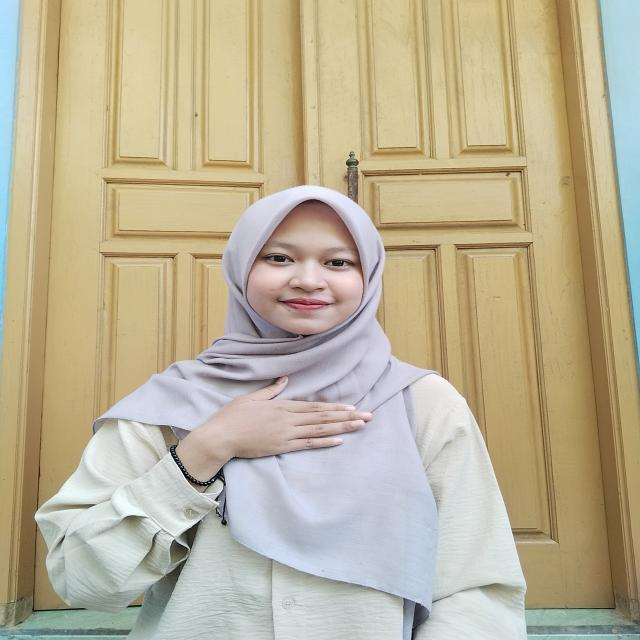tolong: (153, 372, 384, 504)
